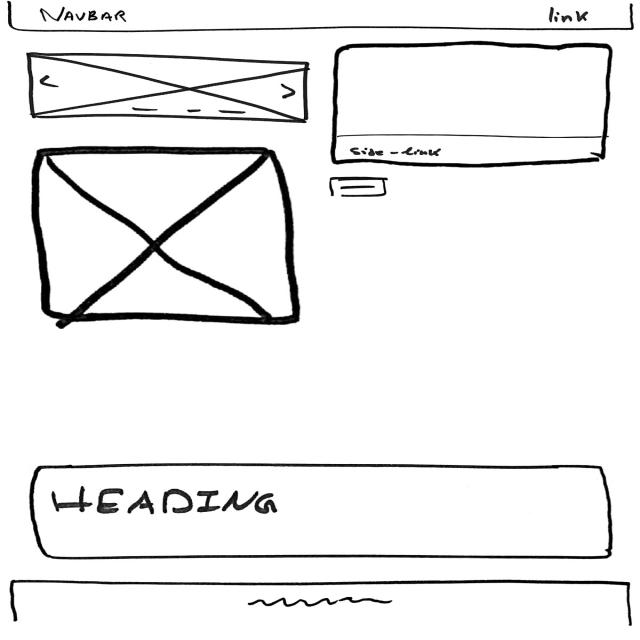container: (30, 464, 616, 563), (332, 45, 616, 170), (4, 1, 636, 33)
image: (34, 146, 301, 326), (25, 50, 314, 126)
label: (51, 486, 282, 518), (40, 5, 133, 25), (348, 146, 446, 159), (547, 6, 593, 25)
text: (249, 596, 395, 612)
